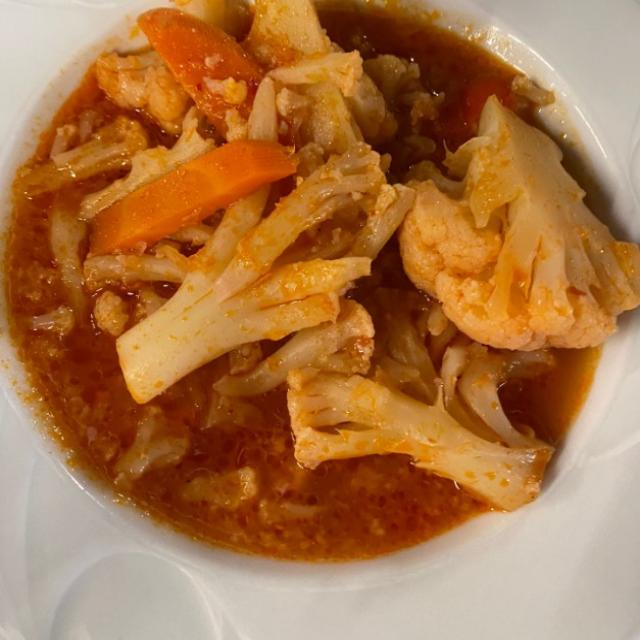ana_yemek: (4, 0, 637, 559)
